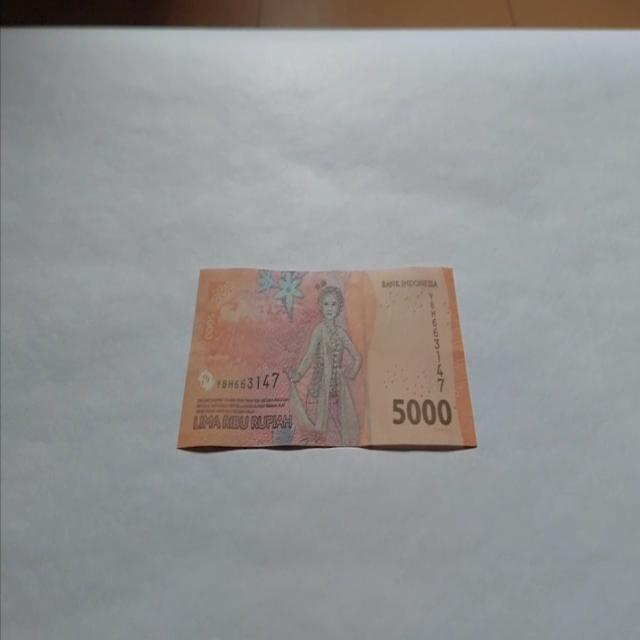lima ribu rupiah: (176, 263, 478, 453), (283, 284, 363, 446)
